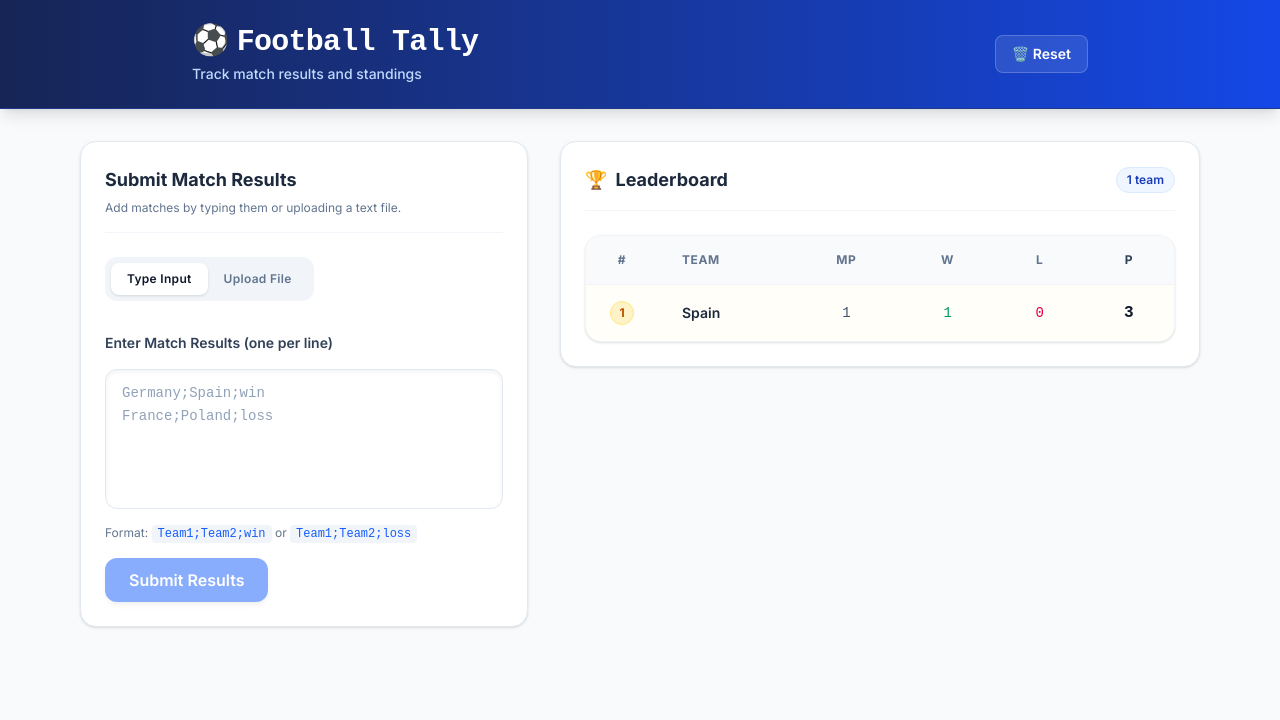
it: Home Page Component › handles match string submission successfully
The image size is (1280, 720).
Expected: the text "Spain" is shown, [658,284,793,341]
Type "Germany;Spain;loss" into the text box at (304, 439), box [105,369,503,509]
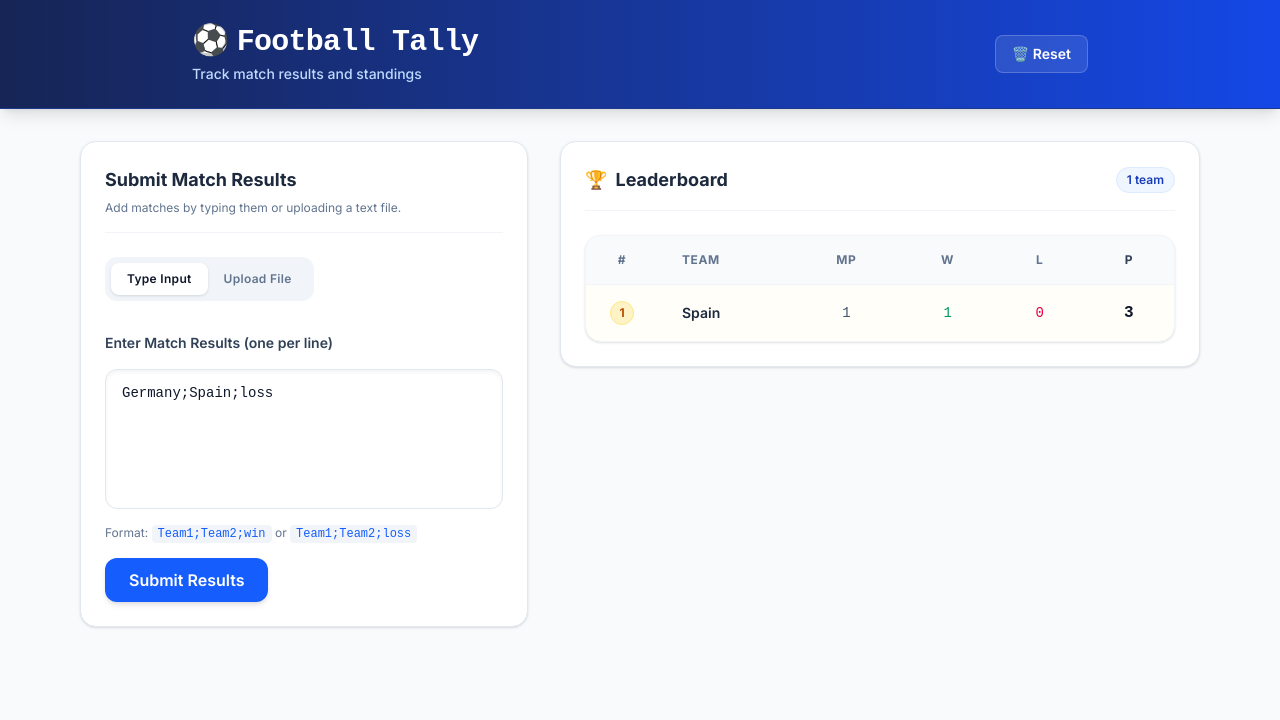
Click the button "Submit Results" at (187, 580), box [105,558,268,602]
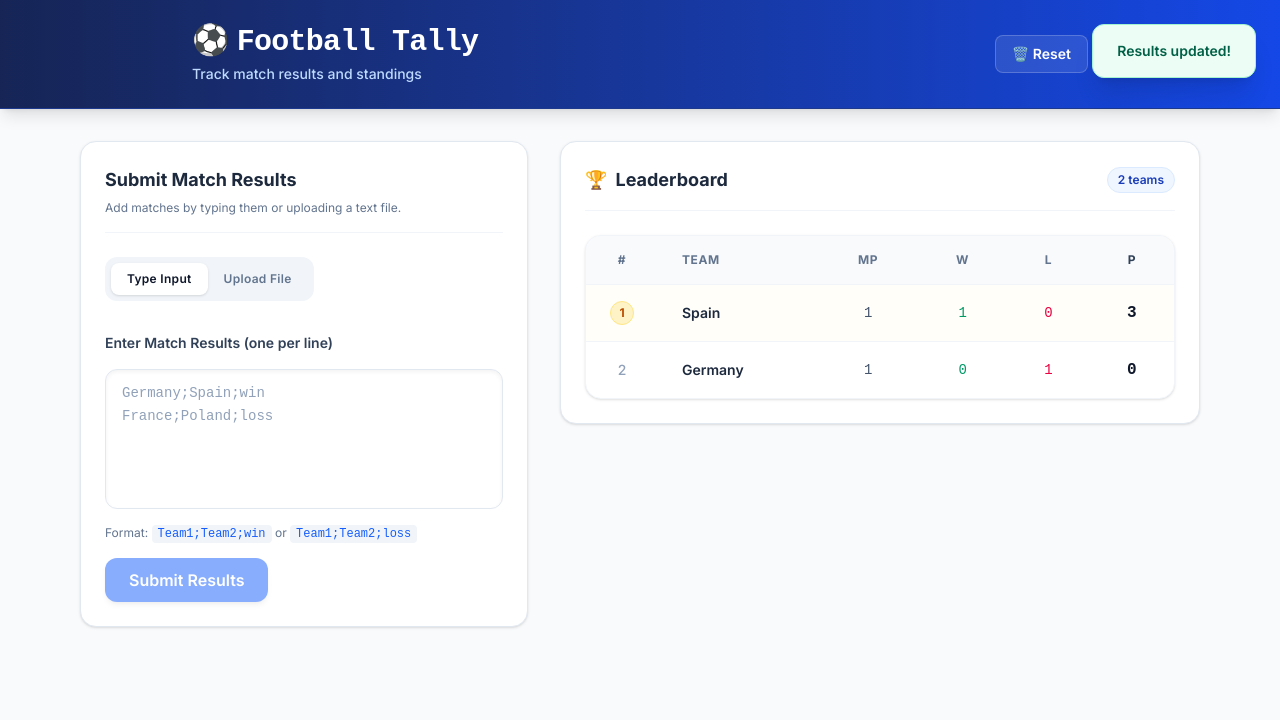
Expected: the text "Germany" is shown, [658,342,818,398]
Expected: the text "Results updated!" is shown, [1092,24,1256,78]
